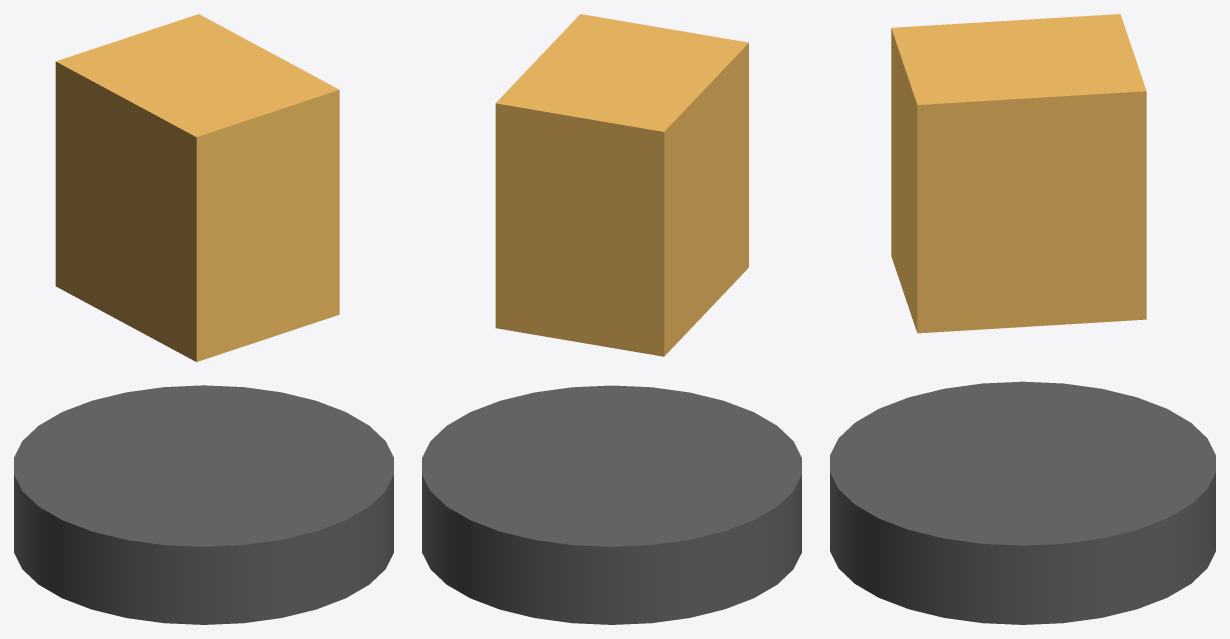
File: cubOrange.glb
3 renders of one model, left to right at view 1: azimuth 30°, elevation 25°; view 2: azimuth 150°, elevation 25°; view 3: azimuth 270°, elevation 25°, orthographic.
Visible parts, largest first — view 1: 011_Box_11, 012_Cylinder_-_baked_11; view 2: 012_Cylinder_-_baked_11, 011_Box_11; view 3: 012_Cylinder_-_baked_11, 011_Box_11.
Part boxes in pixels (left/top/right/bottom): 011_Box_11: left=55, top=14, right=339, bottom=361; 012_Cylinder_-_baked_11: left=14, top=385, right=393, bottom=624; 012_Cylinder_-_baked_11: left=422, top=385, right=801, bottom=624; 011_Box_11: left=495, top=14, right=748, bottom=356; 012_Cylinder_-_baked_11: left=830, top=381, right=1215, bottom=624; 011_Box_11: left=891, top=14, right=1146, bottom=333.
Bounding box in the file's own units: 17.35 × 23.65 × 17.25.
